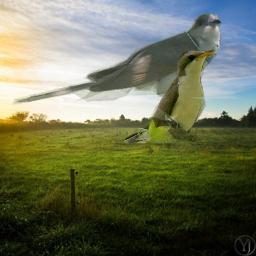Cuckoo: (11, 11, 222, 107), (124, 47, 217, 157)
